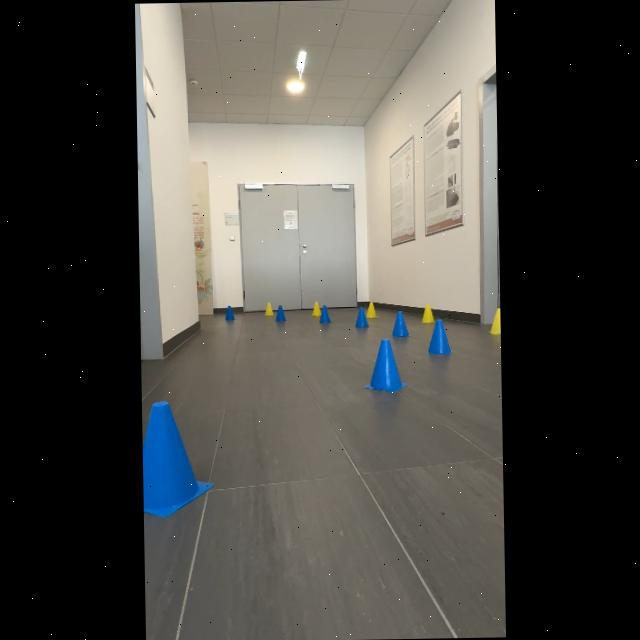blue_cone: (143, 392, 214, 527), (359, 337, 411, 395), (425, 314, 456, 362)
